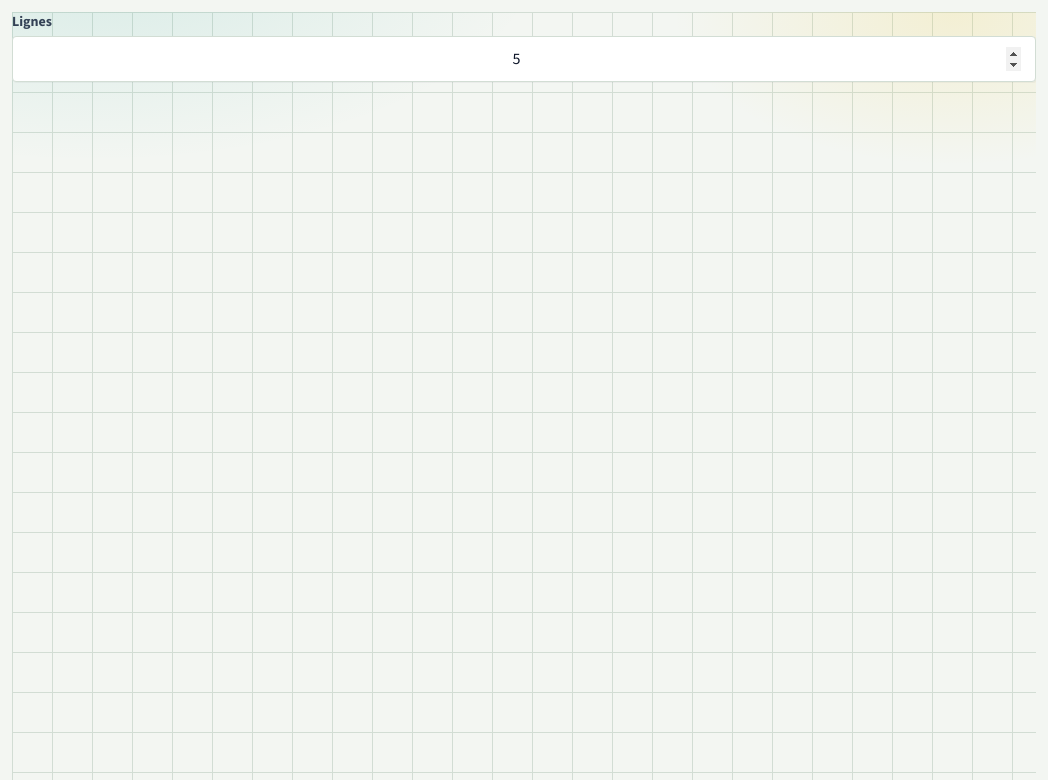
Test case: GridSizeInput › borne la valeur au blur
Replace the text in the number field labelled "Lignes" with "42" at (524, 59), box [12,36,1036,82]
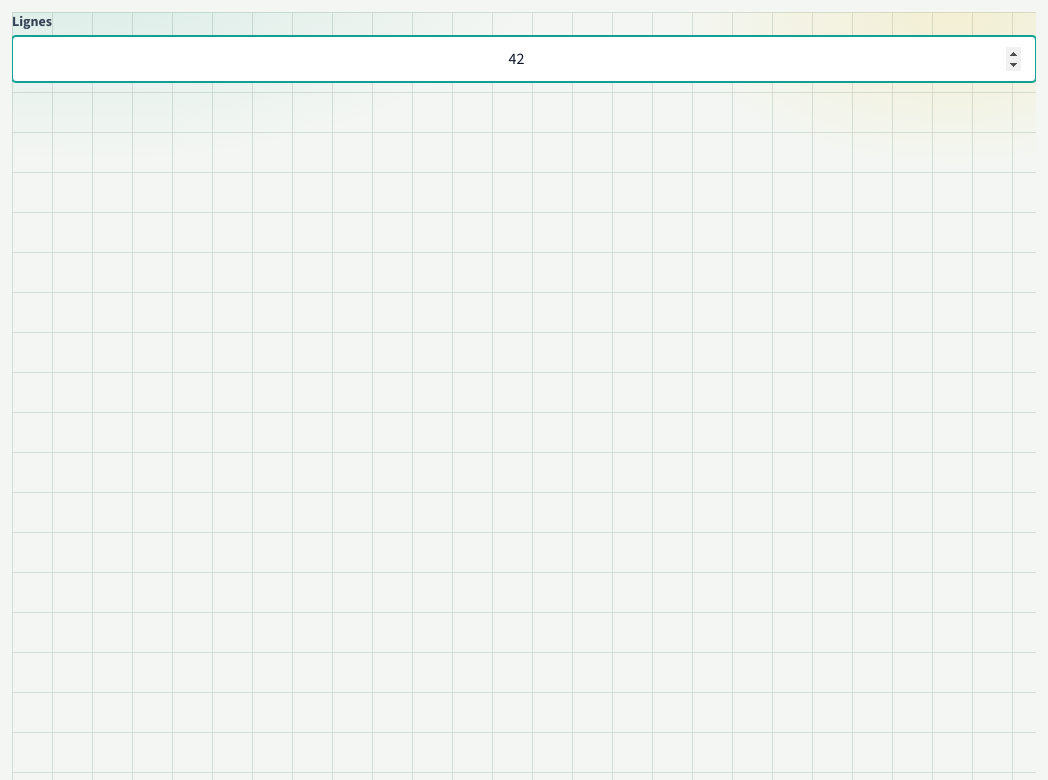
Press Tab
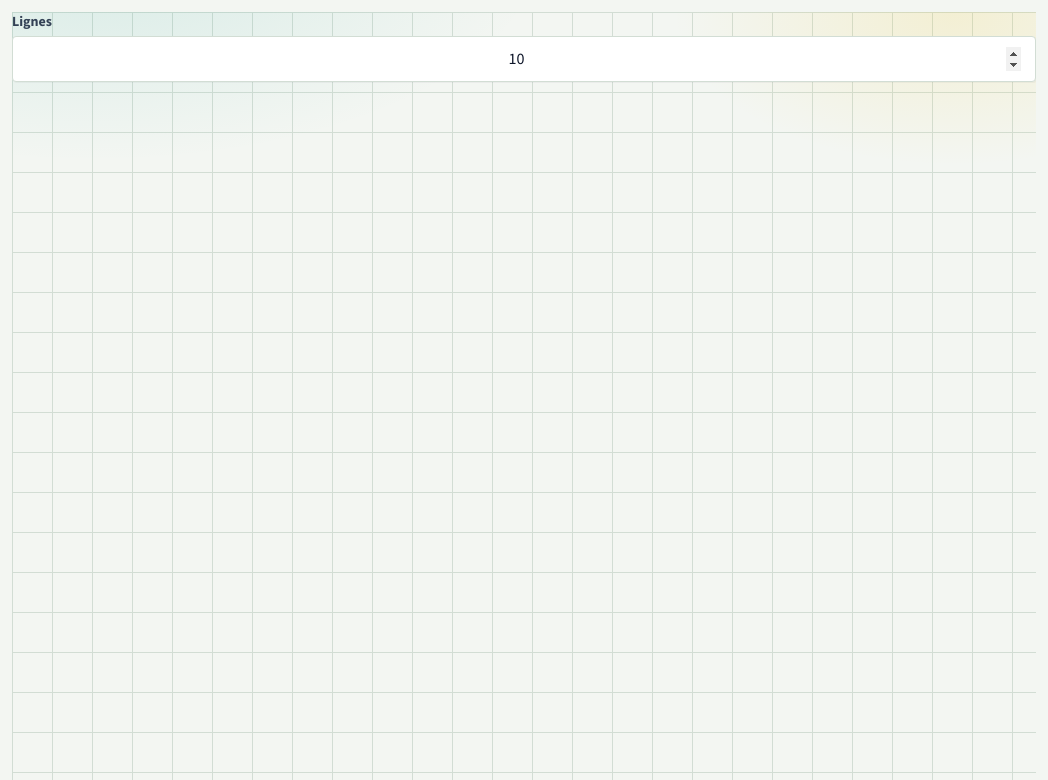
Now the number field labelled "Lignes" holds "10", box [12,36,1036,82]
